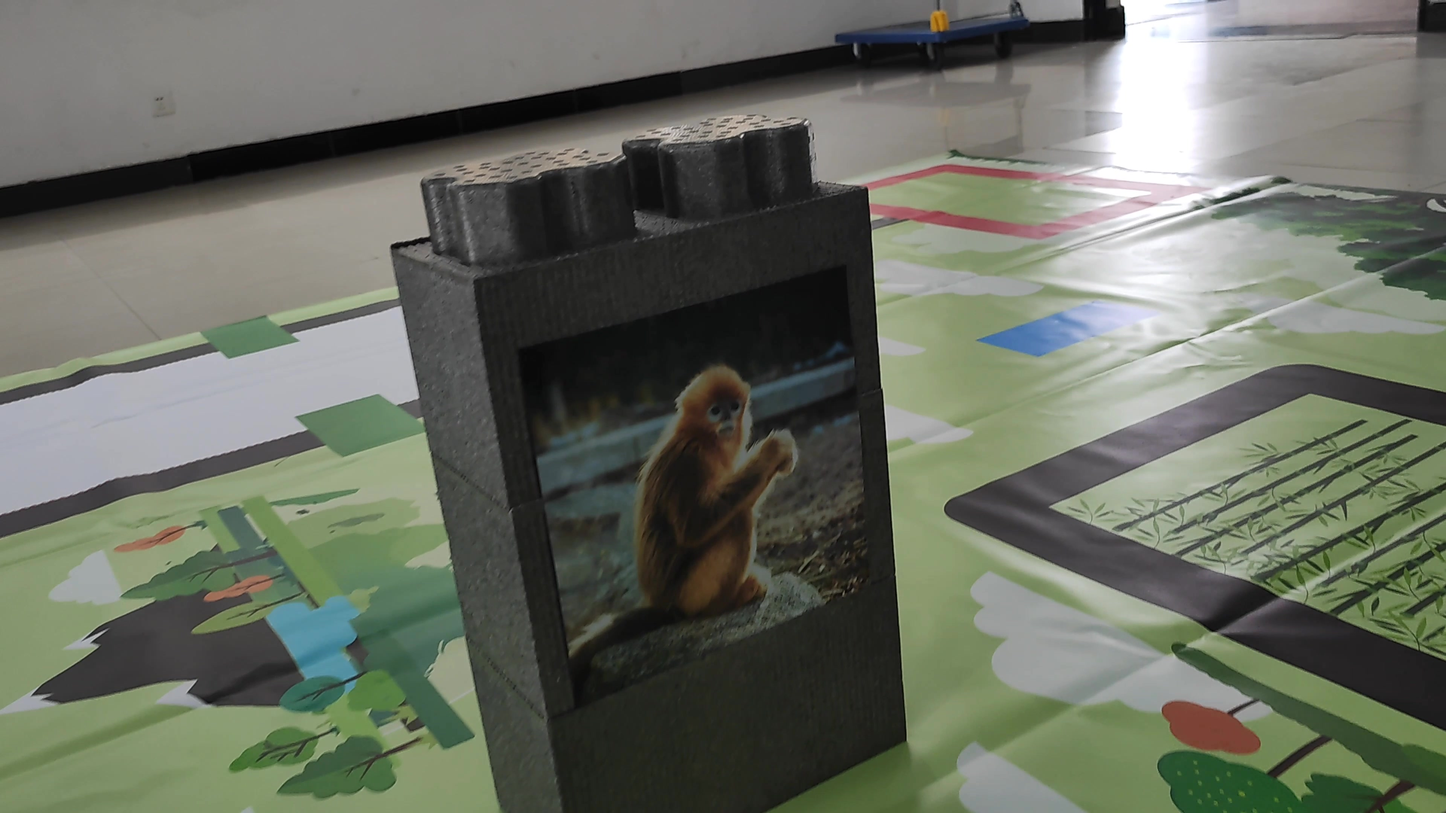monkey: (583, 334, 853, 620)
